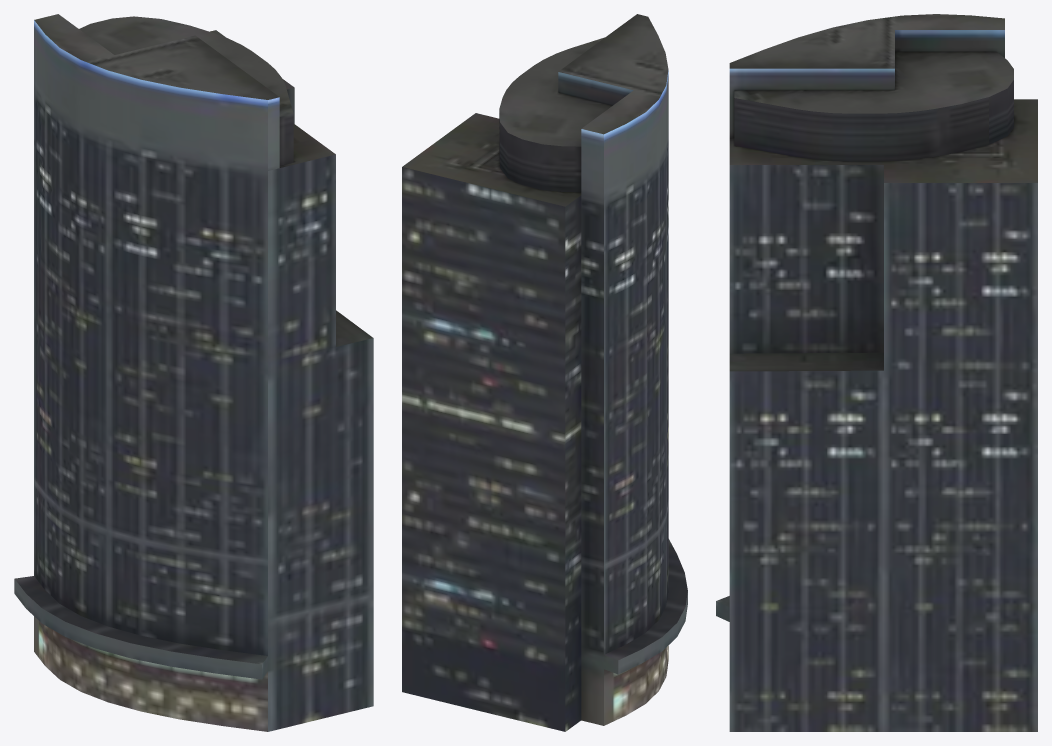
The model's file is Cube.001_Background_Night_Buildings_0.003.glb.
3 renders of one model, left to right at view 1: azimuth 30°, elevation 25°; view 2: azimuth 150°, elevation 25°; view 3: azimuth 270°, elevation 25°, orthographic. The views are drawn at different scales.
Visible parts, largest first — view 1: Cube.001_Background_Night_Buildings_0.003; view 2: Cube.001_Background_Night_Buildings_0.003; view 3: Cube.001_Background_Night_Buildings_0.003.
Part boxes in pixels (<box>): Cube.001_Background_Night_Buildings_0.003: <box>14,14,373,731</box>; Cube.001_Background_Night_Buildings_0.003: <box>402,14,687,731</box>; Cube.001_Background_Night_Buildings_0.003: <box>716,14,1037,731</box>.
Bounding box in the file's own units: 21.33 × 56.98 × 26.88.
Materials: 1 (1 with a texture image).
